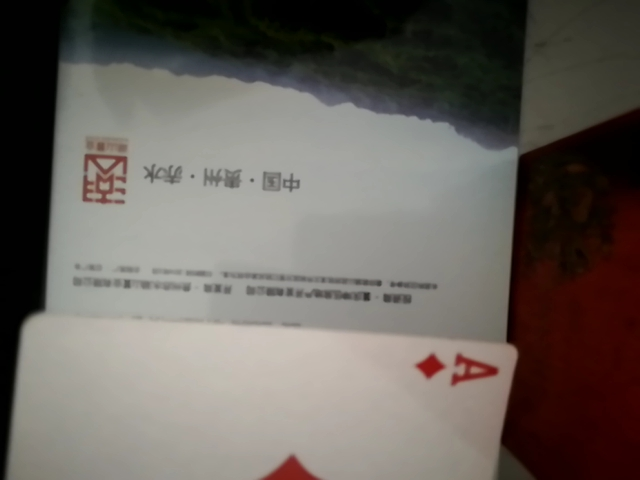fk a: (14, 301, 536, 480)
